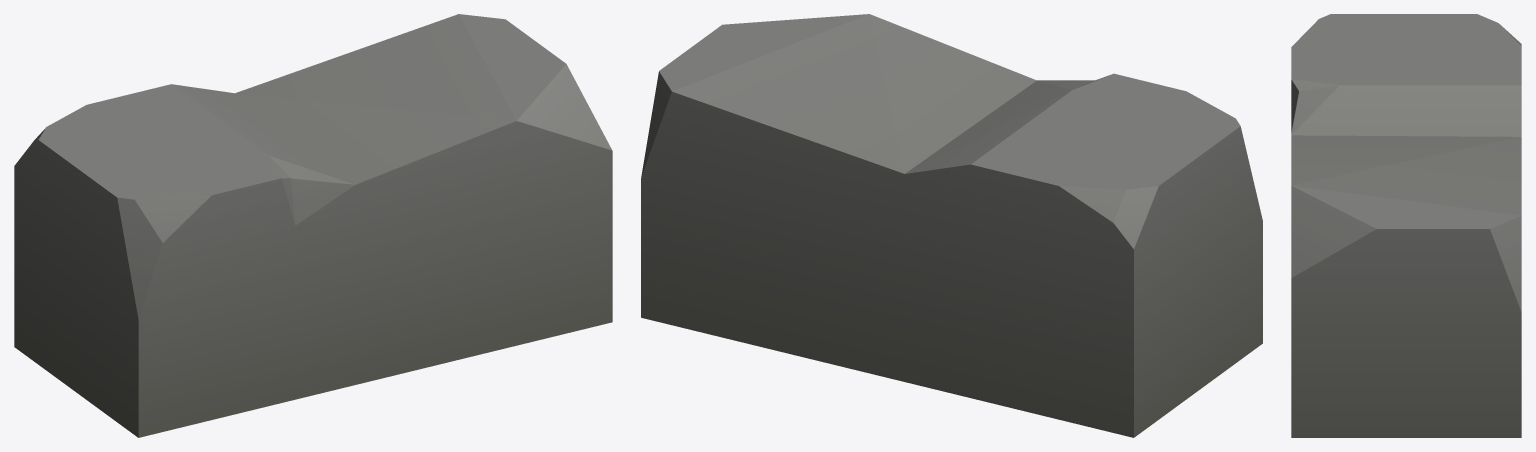
File: Mountain_03.fbx
The picture shows the model from 3 angles, left to right: view 1: azimuth 30°, elevation 25°; view 2: azimuth 150°, elevation 25°; view 3: azimuth 270°, elevation 25°; orthographic projection. The views are drawn at different scales.
Parts seen in each view (by area): view 1: Mountain_03; view 2: Mountain_03; view 3: Mountain_03.
Part boxes in pixels (bbox=[...]): Mountain_03: bbox=[14, 14, 612, 437]; Mountain_03: bbox=[641, 14, 1262, 437]; Mountain_03: bbox=[1291, 14, 1521, 437].
Bounding box in the file's own units: 15.38 × 6.97 × 6.97.
